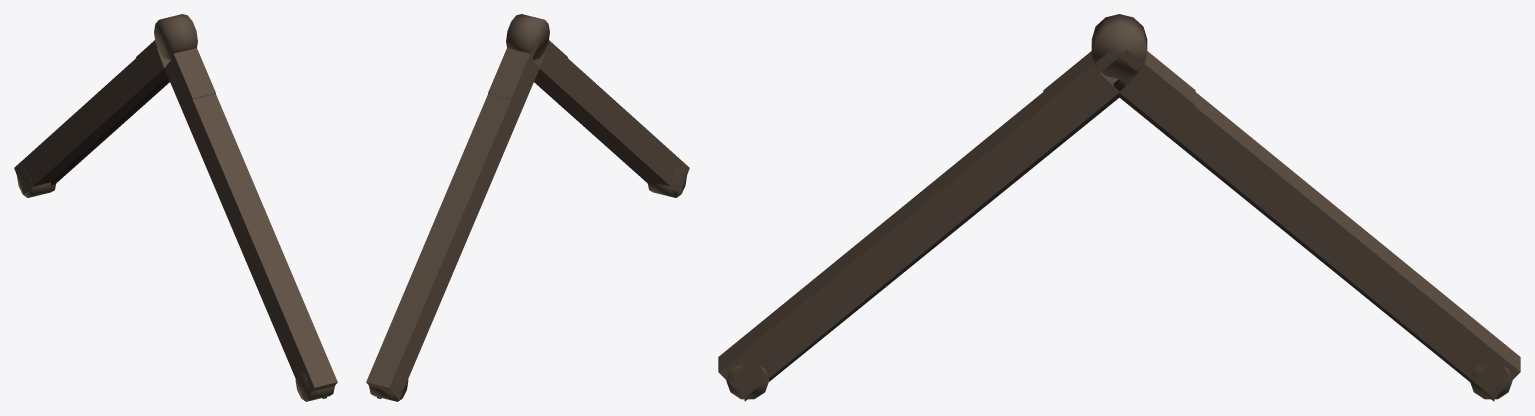
Rendered from kit_timber_thatch_w4_end.glb.
The picture shows the model from 3 angles, left to right: view 1: azimuth 30°, elevation 25°; view 2: azimuth 150°, elevation 25°; view 3: azimuth 270°, elevation 25°; orthographic projection. The views are drawn at different scales.
Visible parts, largest first — view 1: kit_timber_thatch_w4_end; view 2: kit_timber_thatch_w4_end; view 3: kit_timber_thatch_w4_end.
Part boxes in pixels (bbox=[...]): kit_timber_thatch_w4_end: bbox=[14, 14, 337, 401]; kit_timber_thatch_w4_end: bbox=[366, 14, 689, 401]; kit_timber_thatch_w4_end: bbox=[718, 14, 1520, 401].
Size of the model in its own units: 0.22 by 2.53 by 4.92.
